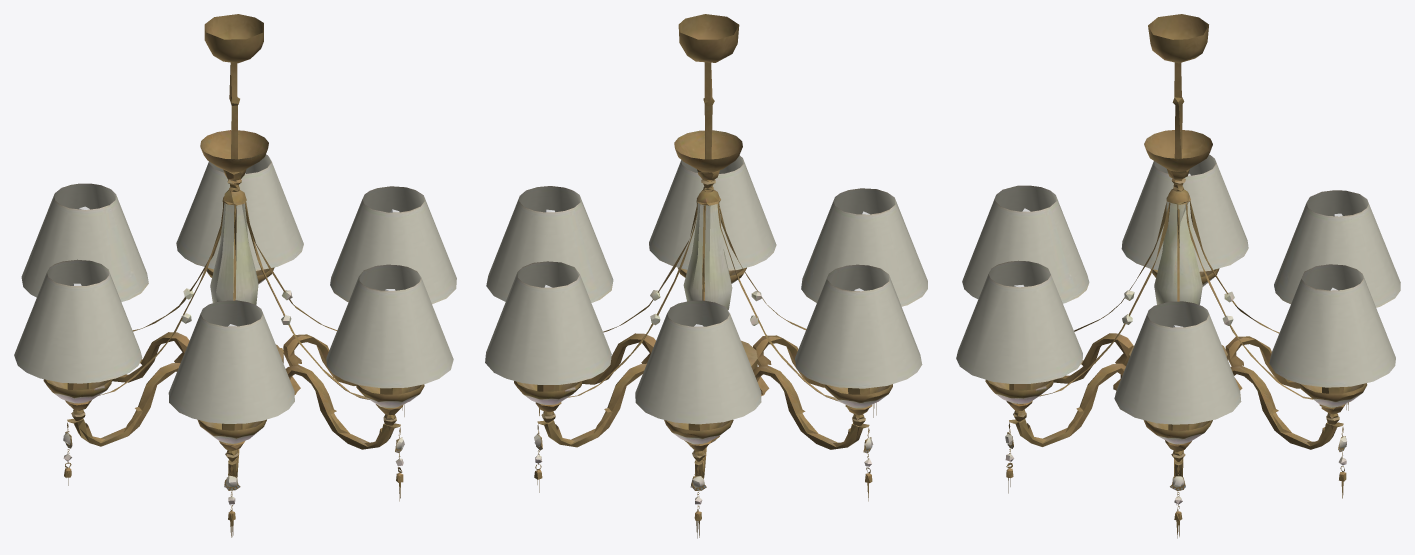
The model's file is chandelier-classic.lod1.glb.
3 renders of one model, left to right at view 1: azimuth 30°, elevation 25°; view 2: azimuth 150°, elevation 25°; view 3: azimuth 270°, elevation 25°, orthographic.
Visible parts, largest first — view 1: chandelier-classic; view 2: chandelier-classic; view 3: chandelier-classic.
Part boxes in pixels (<box>): chandelier-classic: <box>14,14,456,537</box>; chandelier-classic: <box>485,14,927,538</box>; chandelier-classic: <box>956,14,1400,538</box>.
Size of the model in its own units: 0.8152 by 0.7983 by 0.7458.
Materials: 2 (1 with a texture image).
